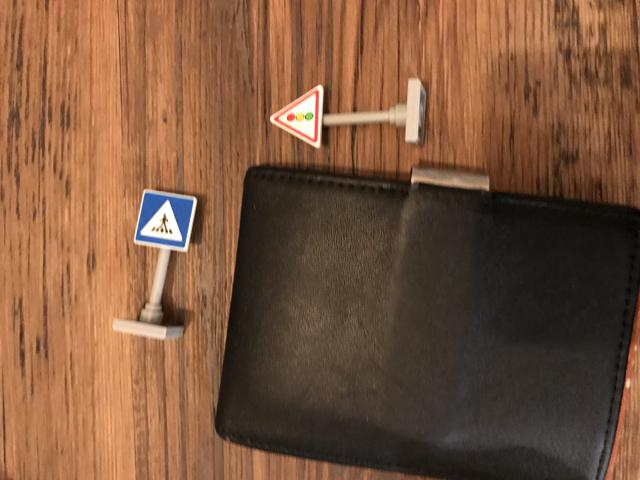fußgängerüberweg: (131, 188, 201, 251)
lichtzeichenanlage: (262, 84, 327, 148)
